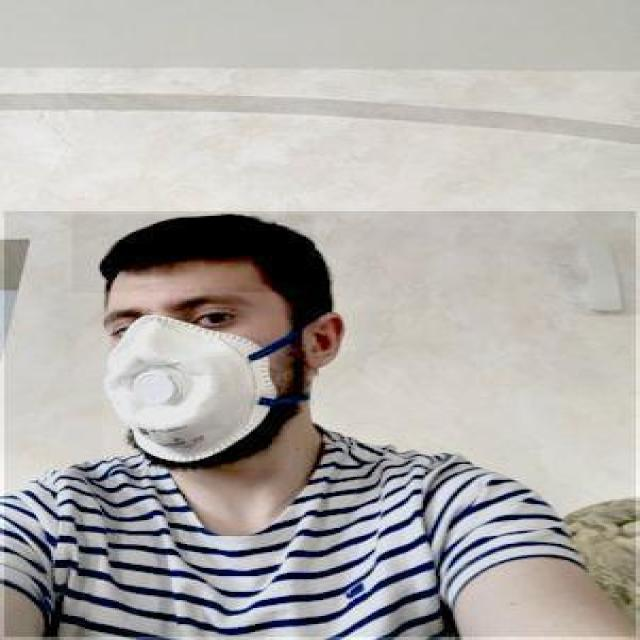face_mask: (102, 291, 293, 469)
head_nohelmet: (72, 214, 315, 293)
person: (4, 212, 638, 638)
